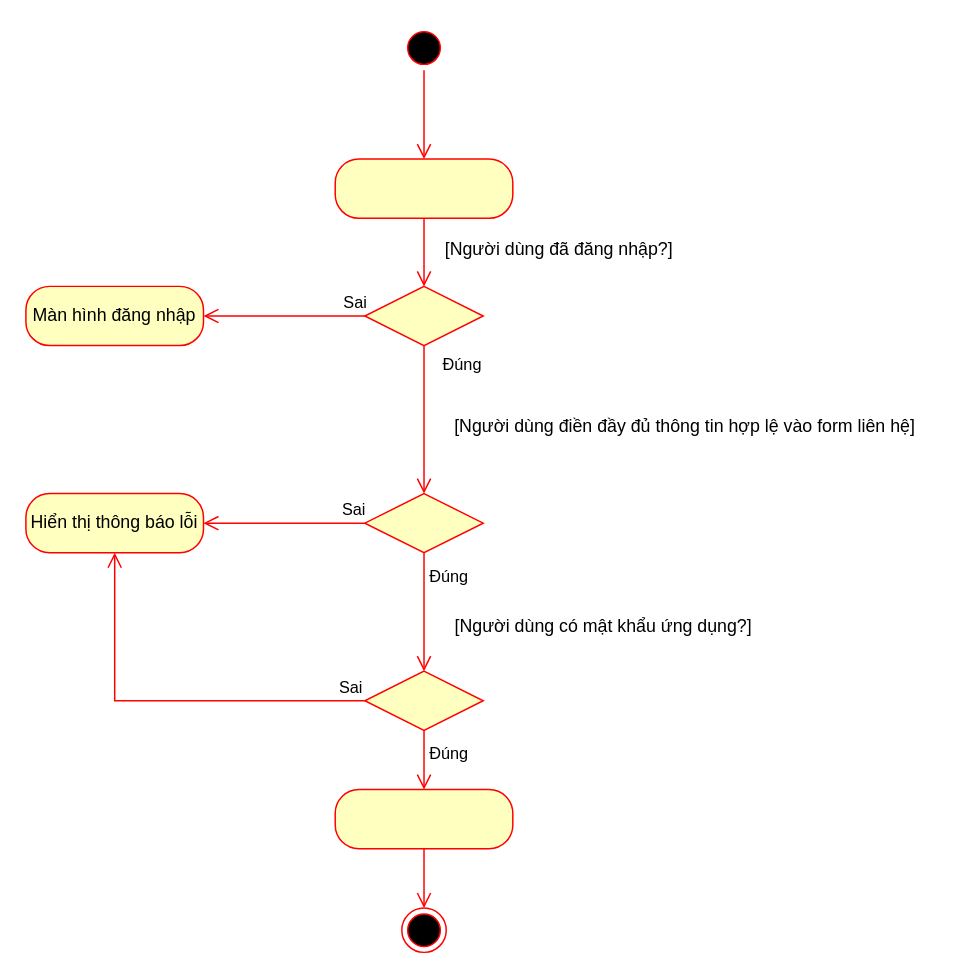
Some shapes in this 955 by 978 pixel diagram are drawn without their labels. The centre of each missing label's shape, as x and y in pixels:
"Hiển thị thông báo gửi thành công" belongs at point 423,818.
"Màn hình hiển thị trang liên hệ" belongs at point 423,188.
